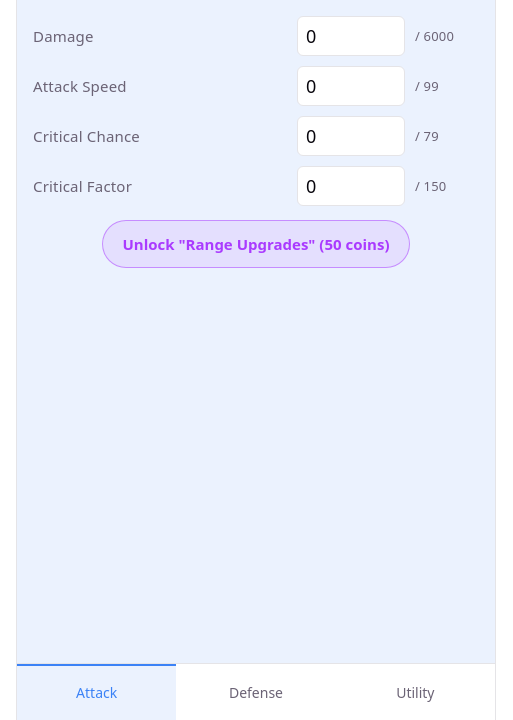
WorkshopInputs › switches to another category tab on click
This screenshot has width=513, height=720.
Click the tab "Defense": {"x": 256, "y": 692} top-left (176, 664), bottom-right (336, 719)
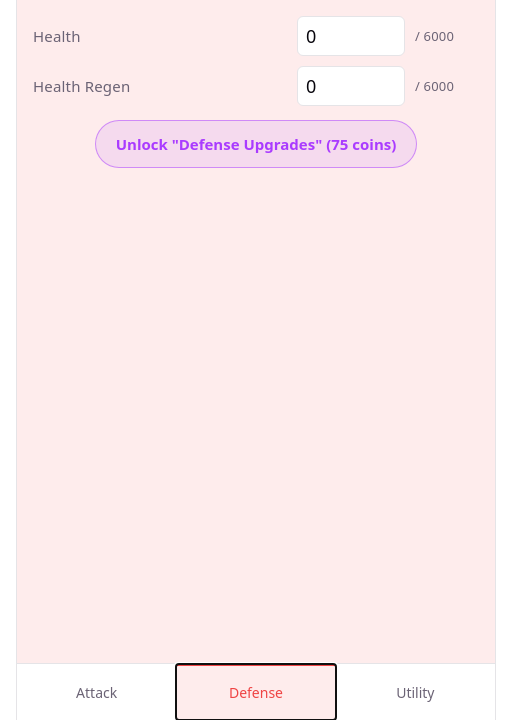
Expected: the number field labelled "Health" is shown, top-left (297, 16), bottom-right (405, 56)
Now the label labelled "Damage" is gone
